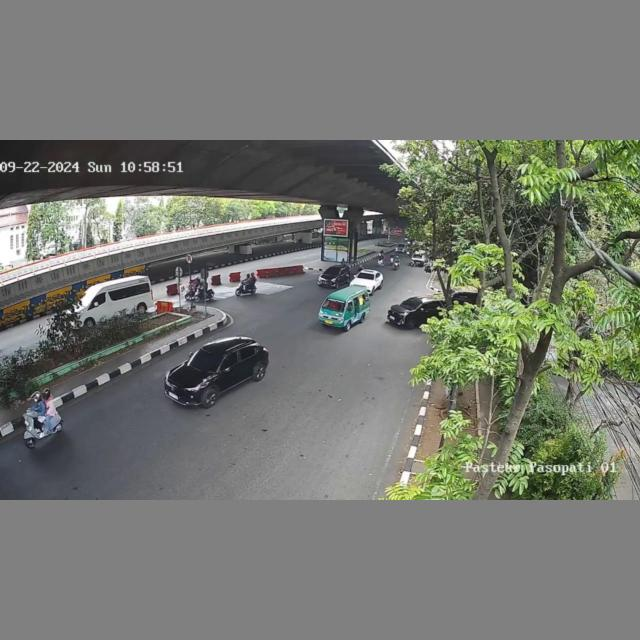windshield: (188, 349, 221, 372), (321, 298, 345, 312), (356, 273, 375, 280)
